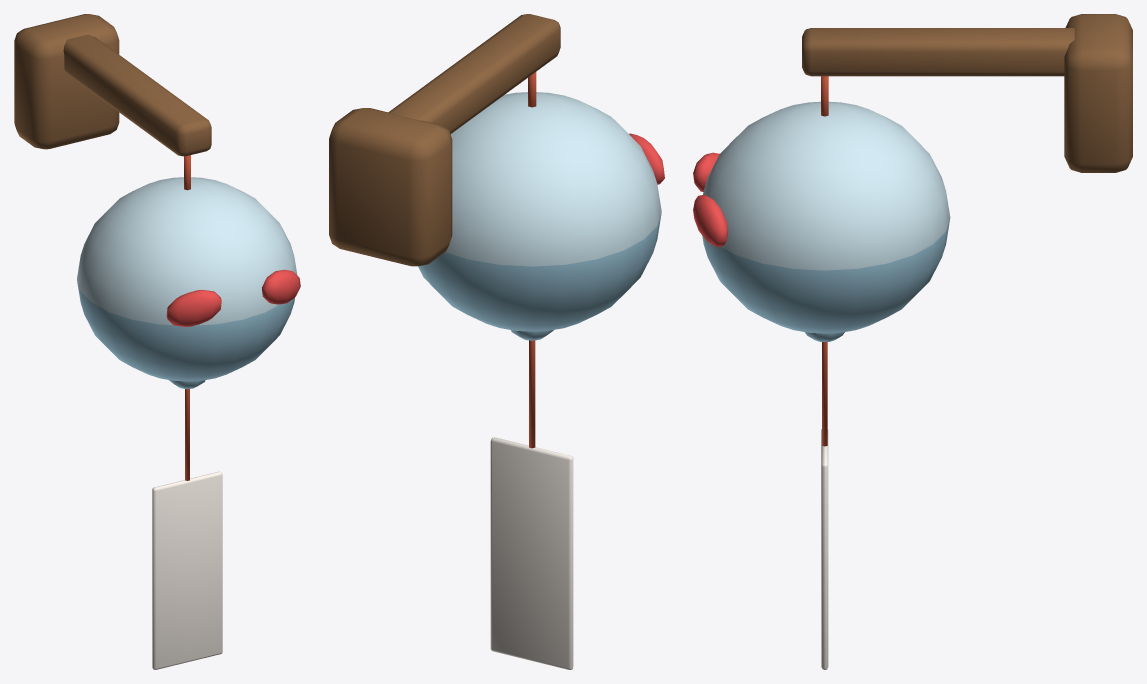
The model's file is wind-chime.glb.
3 renders of one model, left to right at view 1: azimuth 30°, elevation 25°; view 2: azimuth 150°, elevation 25°; view 3: azimuth 270°, elevation 25°, orthographic. The views are drawn at different scales.
Visible parts, largest first — view 1: chime, bracket; view 2: chime, bracket; view 3: chime, bracket.
Part boxes in pixels (box(x1,y1,x2,y2)): chime: box(77, 155, 300, 669); bracket: box(14, 14, 211, 156); chime: box(418, 72, 664, 669); bracket: box(329, 14, 560, 266); chime: box(693, 76, 950, 669); bracket: box(802, 14, 1132, 172).
Bounding box in the file's own units: 0.22 × 0.6 × 0.3855.
